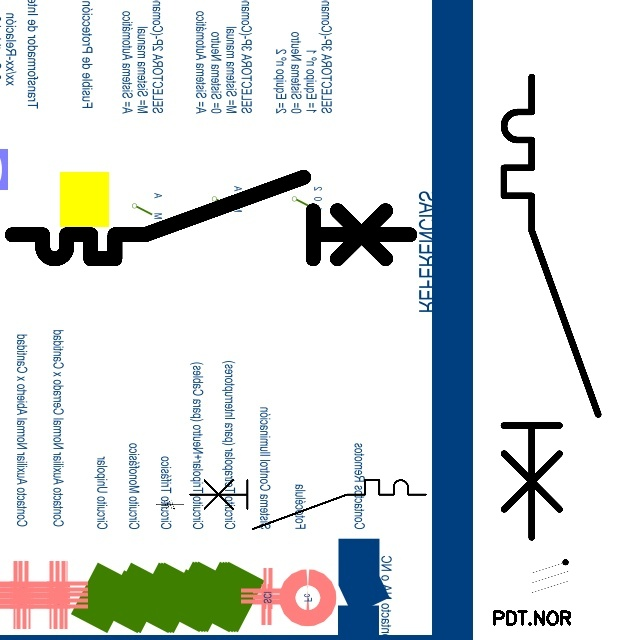interruptor_termomagnetico: (492, 65, 610, 549), (2, 167, 420, 269), (184, 474, 432, 534)
